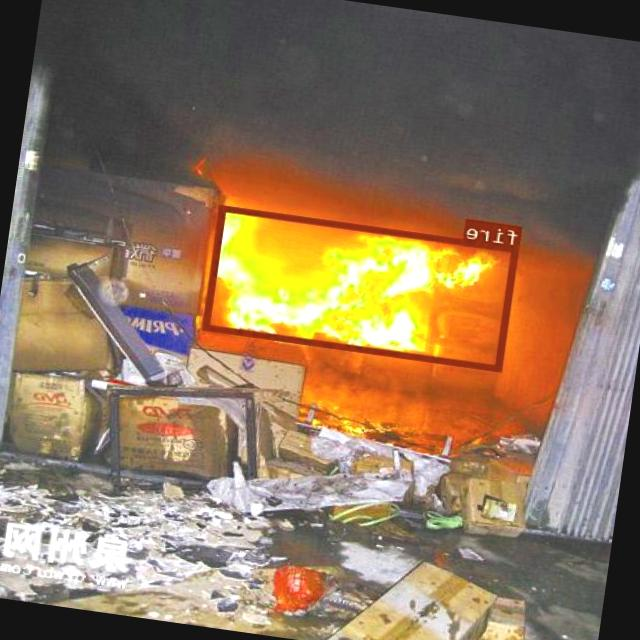fire: (204, 204, 521, 371)
